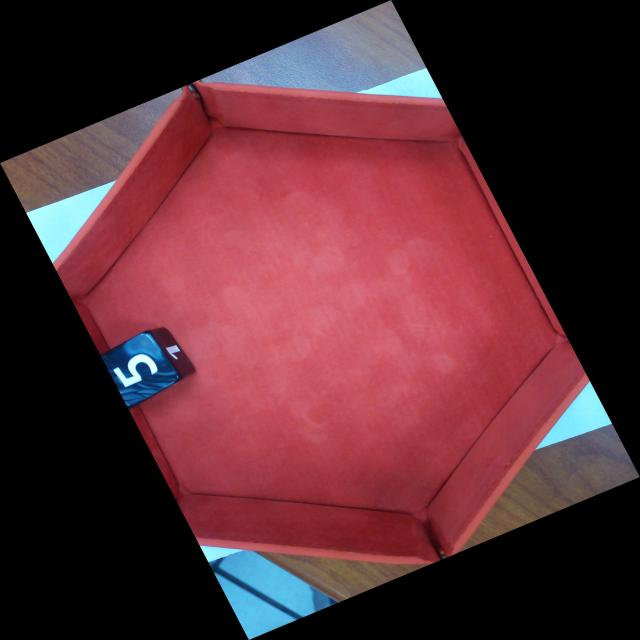dice: (101, 332, 182, 409)
